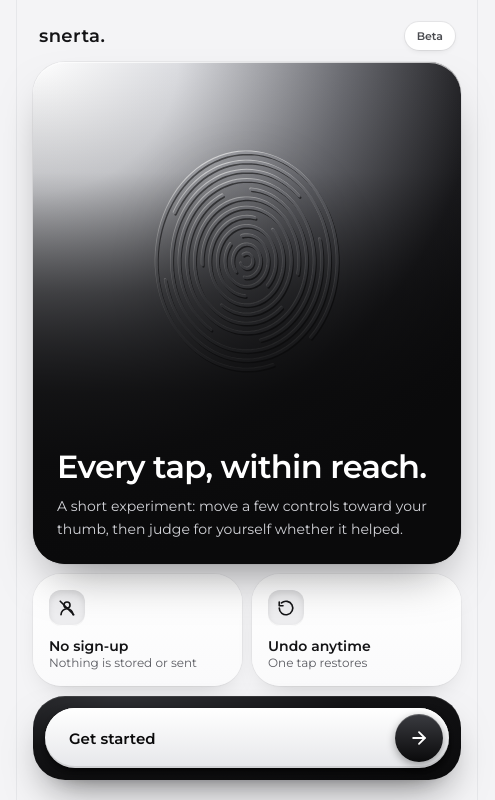
Test case: Welcome → Hand selection › remembers the selection when going back and forward
Click the button "Get started" at [112, 738], box [45,708,449,768]
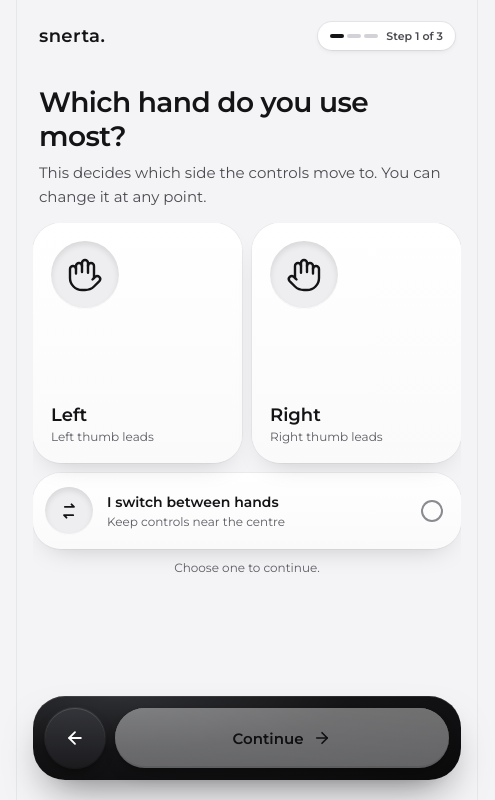
Click the radio button labelled "Left" at [138, 343], box [33,223,242,463]
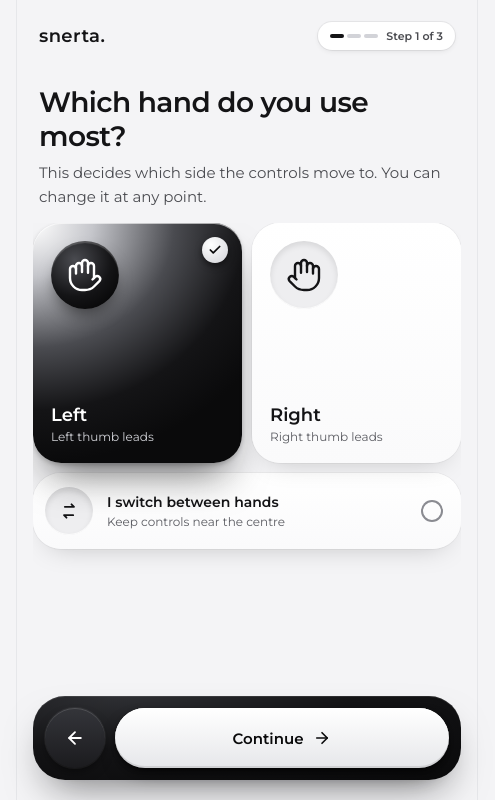
Click the button named "Back" at [75, 738], box [45,708,105,768]
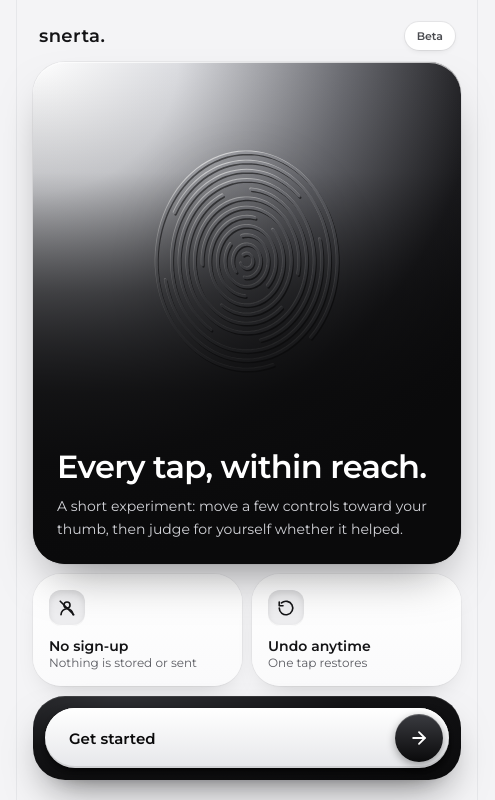
Click the button "Get started" at [112, 738], box [45,708,449,768]
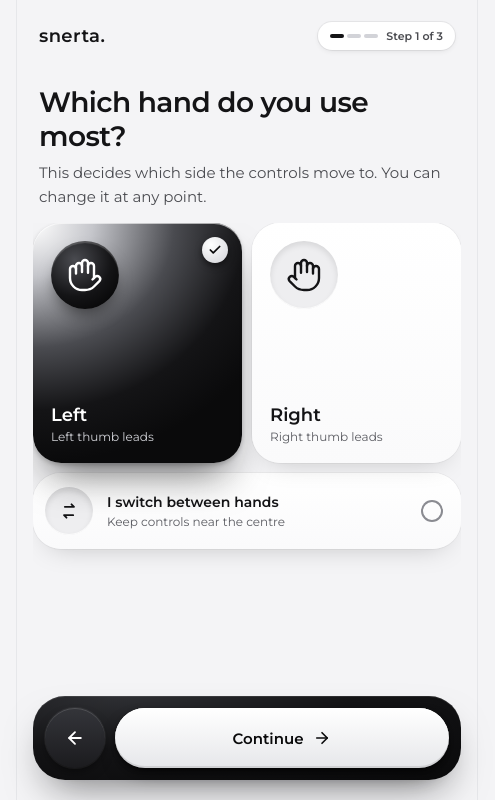
Now the radio button labelled "Left" is checked, box [33,223,242,463]
